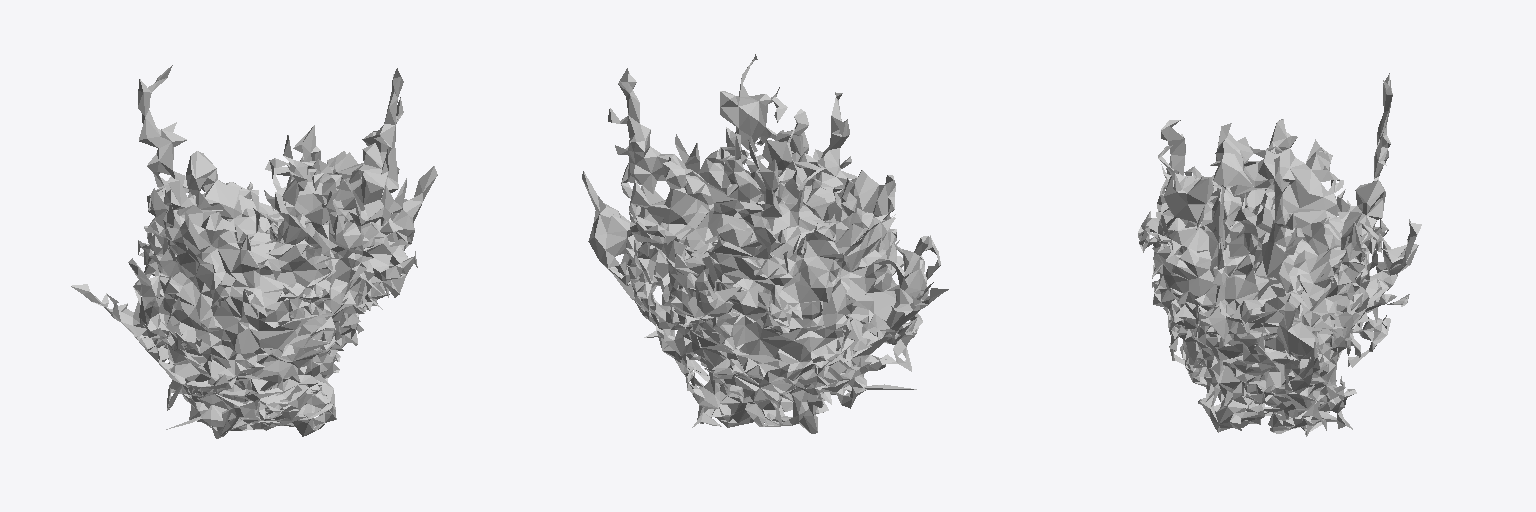
File: cd746a1547e9_dry_arid_region_shr.obj
The picture shows the model from 3 angles: view 1: azimuth 30°, elevation 25°; view 2: azimuth 150°, elevation 25°; view 3: azimuth 270°, elevation 25°; orthographic projection.
Parts seen in each view (by area): view 1: mesh; view 2: mesh; view 3: mesh.
Part boxes in pixels (left/top/right/bottom): mesh: left=71, top=65, right=437, bottom=438; mesh: left=582, top=54, right=948, bottom=433; mesh: left=1138, top=73, right=1421, bottom=436.
Size of the model in its own units: 0.9993 by 0.8414 by 0.6699.